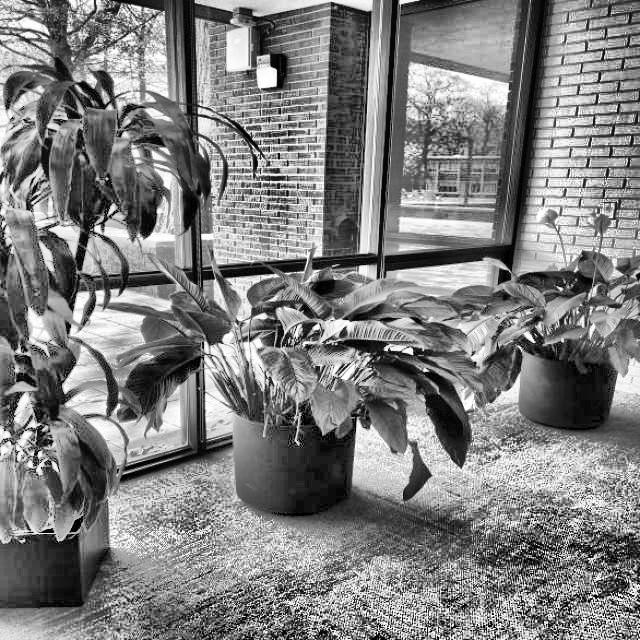plants: (167, 258, 522, 536), (0, 69, 185, 572), (453, 226, 640, 497)
